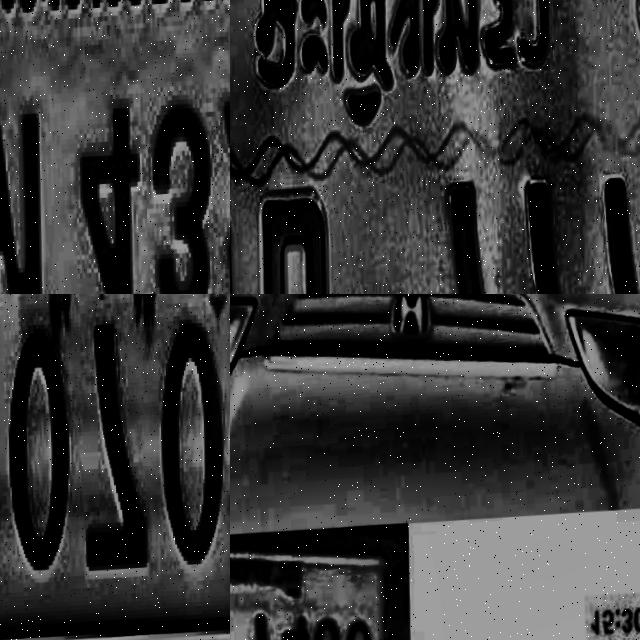license-plate: (230, 0, 640, 294), (0, 294, 230, 640), (0, 0, 230, 294), (230, 524, 406, 640)
